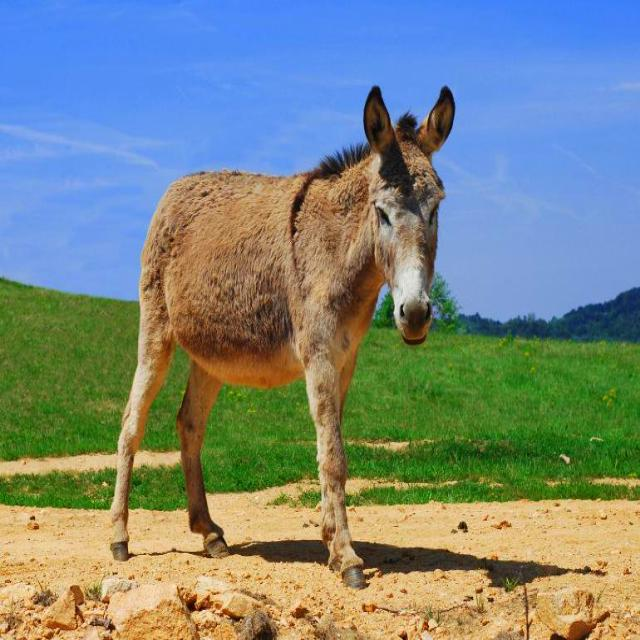donkey: (110, 86, 455, 586)
